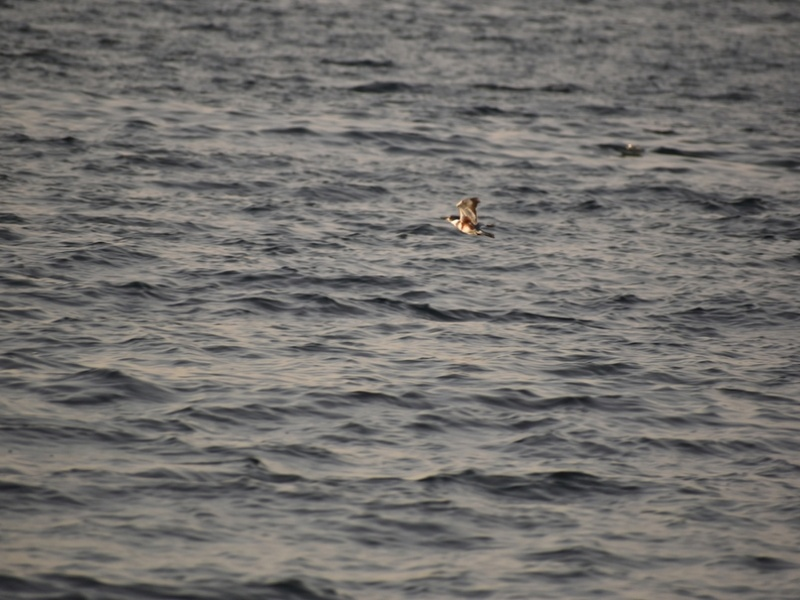kingfisher: (436, 198, 497, 241)
